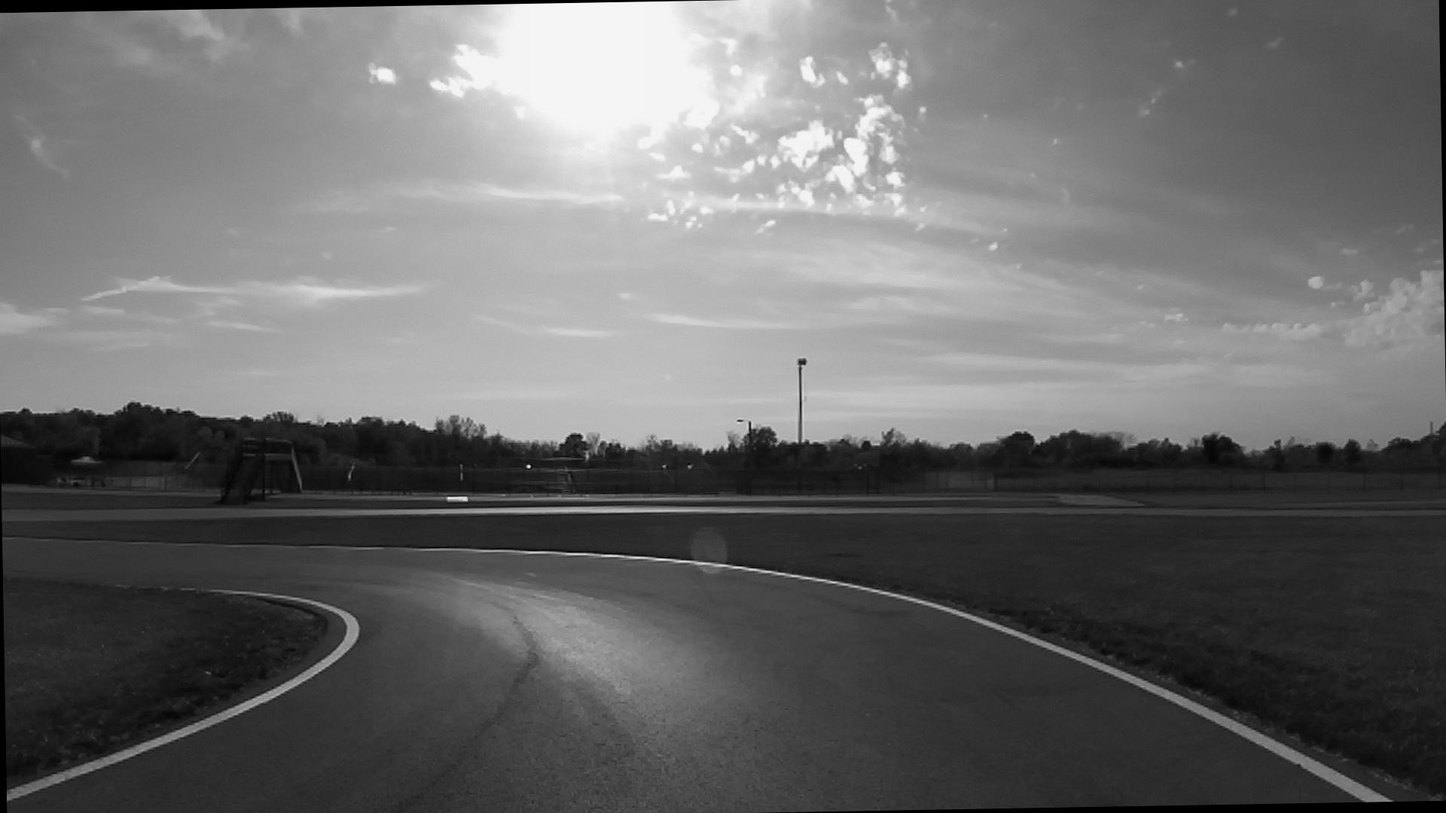white-line: (701, 562, 1394, 802), (7, 589, 357, 802), (404, 547, 708, 565)
